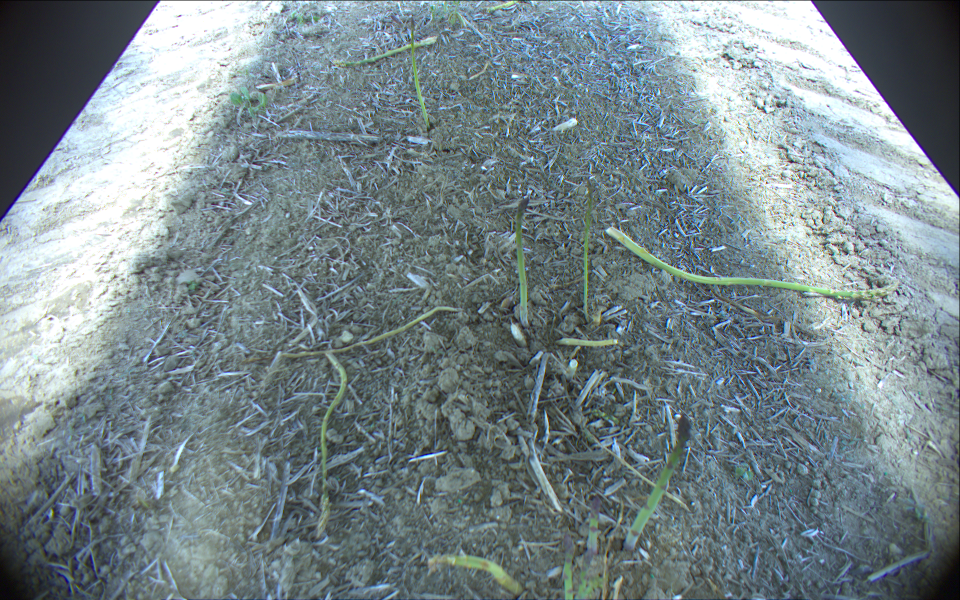aspa: (606, 226, 897, 295), (271, 306, 460, 359), (626, 412, 689, 549), (315, 349, 349, 537), (428, 555, 525, 594), (336, 37, 439, 68), (408, 16, 431, 130), (513, 200, 530, 326), (583, 179, 595, 320), (562, 532, 576, 600), (585, 500, 599, 561), (488, 1, 518, 11)
